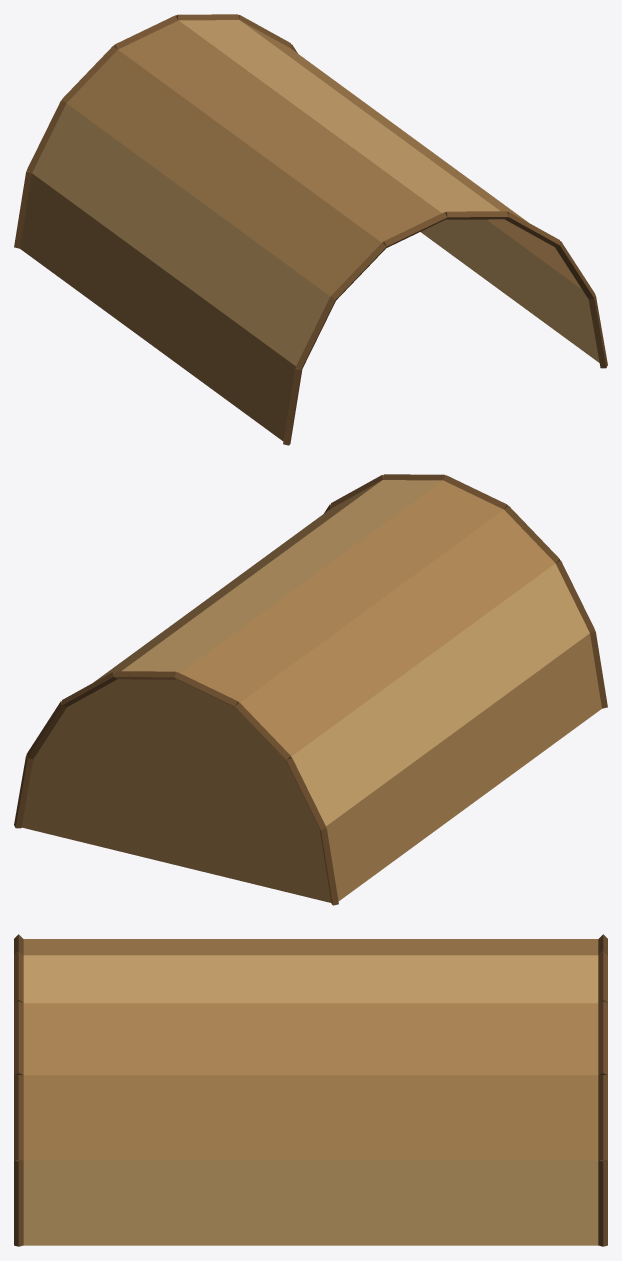
The model's file is boat-canopy.obj.
3 renders of one model, top to bottom at view 1: azimuth 30°, elevation 25°; view 2: azimuth 150°, elevation 25°; view 3: azimuth 270°, elevation 25°, orthographic. The views are drawn at different scales.
Bounding box in the file's own units: 1.88 × 1.08 × 2.74.
